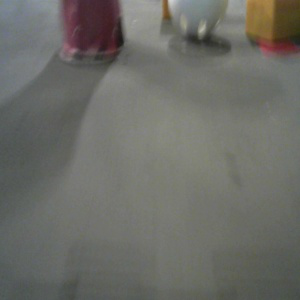middle: (61, 1, 124, 64)
